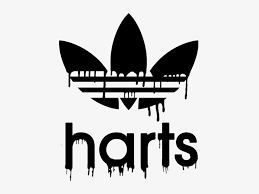adidas: (58, 14, 200, 169)
